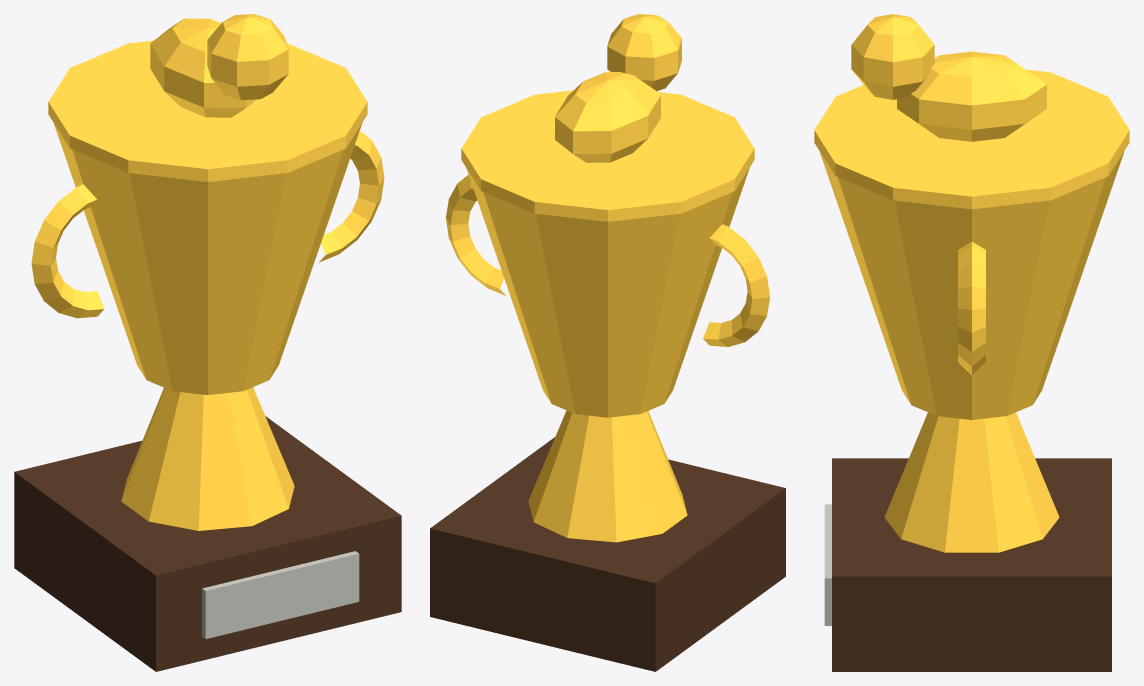
Rendered from dog_trophy.glb.
The picture shows the model from 3 angles, left to right: view 1: azimuth 30°, elevation 25°; view 2: azimuth 150°, elevation 25°; view 3: azimuth 270°, elevation 25°; orthographic projection. The views are drawn at different scales.
Parts seen in each view (by area): view 1: cup_gold, base_trophy_base, dog_gold, plate_trophy_plate; view 2: cup_gold, base_trophy_base, dog_gold; view 3: cup_gold, base_trophy_base, dog_gold, plate_trophy_plate.
Part boxes in pixels (bbox=[...]): cup_gold: bbox=[31, 40, 384, 530]; base_trophy_base: bbox=[14, 416, 401, 671]; dog_gold: bbox=[150, 14, 288, 117]; plate_trophy_plate: bbox=[202, 551, 359, 638]; cup_gold: bbox=[446, 90, 769, 542]; base_trophy_base: bbox=[430, 437, 785, 671]; dog_gold: bbox=[555, 14, 681, 162]; cup_gold: bbox=[814, 69, 1129, 552]; base_trophy_base: bbox=[832, 458, 1111, 671]; dog_gold: bbox=[851, 14, 1046, 141]; plate_trophy_plate: bbox=[824, 504, 831, 625].
Size of the model in its own units: 0.23 by 0.375 by 0.18.
